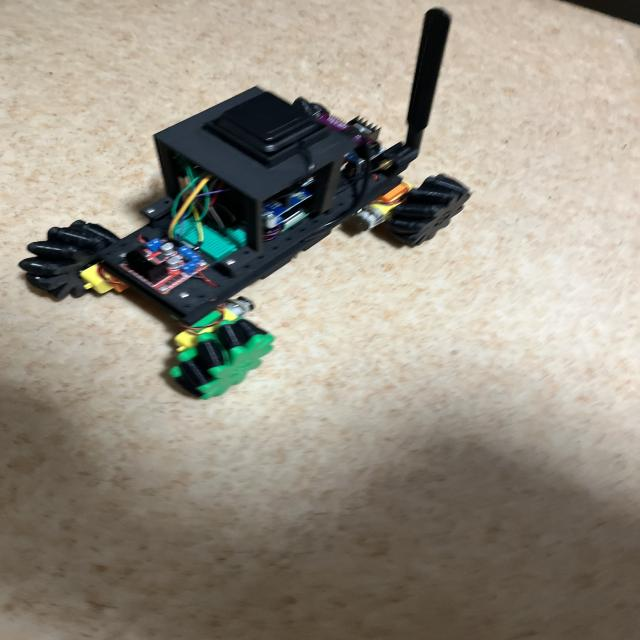robot: (19, 9, 470, 399)
